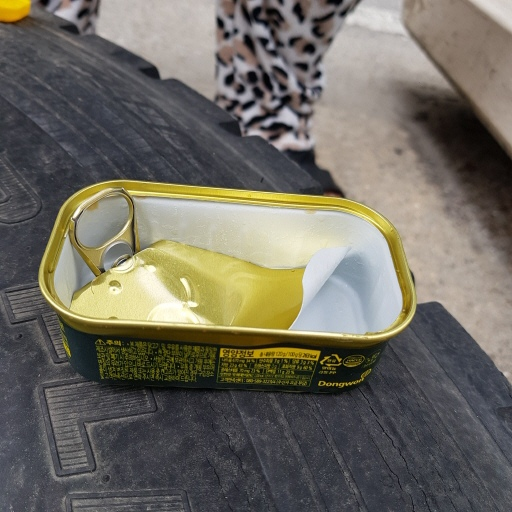Metal_2: (36, 179, 418, 390)
